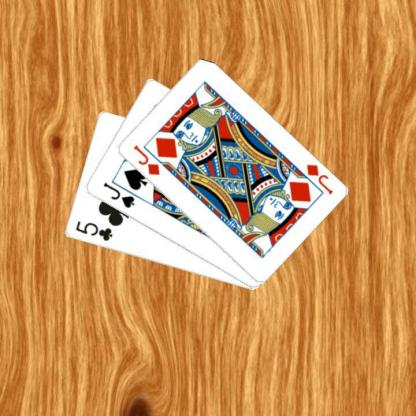5C: (72, 218, 113, 243)
JD: (130, 142, 161, 177), (303, 161, 334, 196)
JS: (100, 180, 136, 210)
